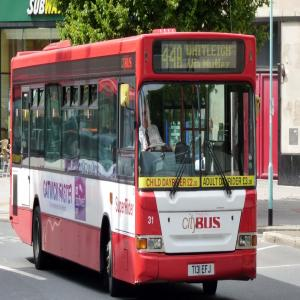Vehicle-registration-plate: (189, 263, 216, 279)
